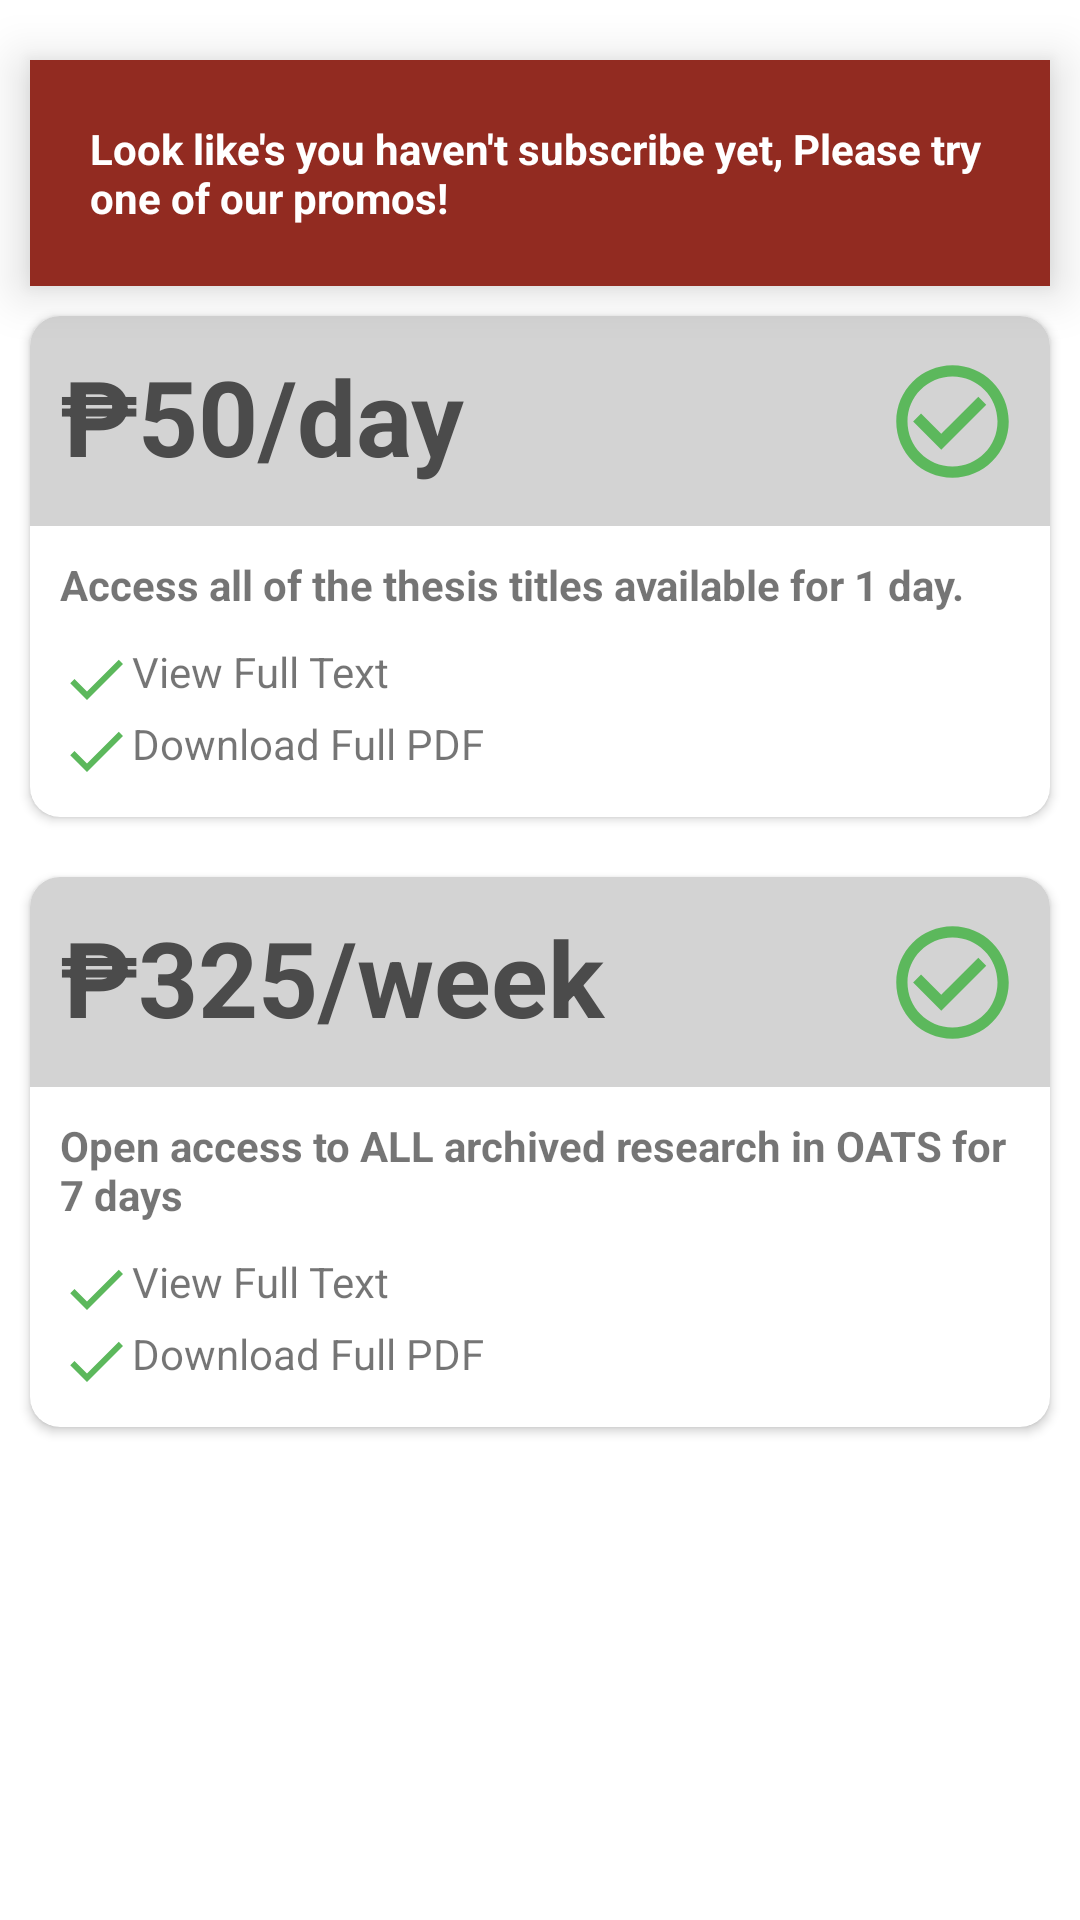

Screen size 1080 x 1920. Icon name, then its center in pixels as point (x, y):
check circle: point (952, 421), point (952, 982)
